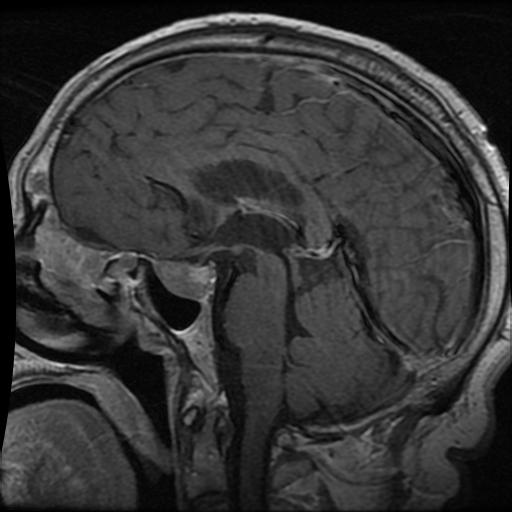Pituirity_tumour: (152, 259, 216, 300)
